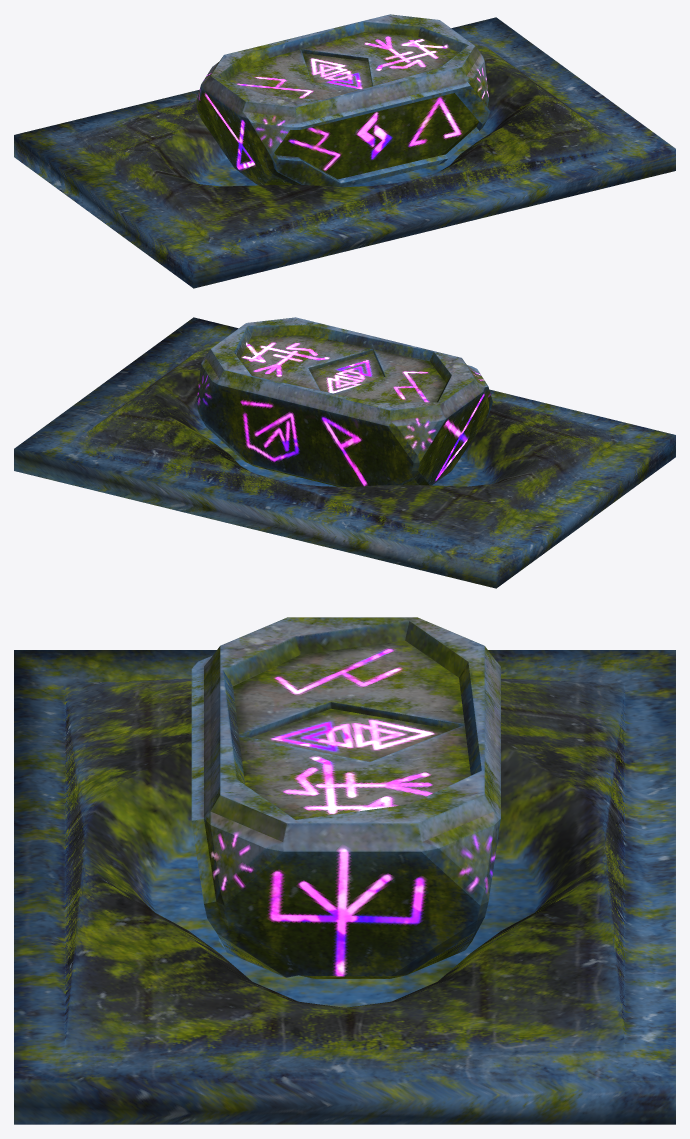
The model's file is pedestal.glb.
The picture shows the model from 3 angles, top to bottom: view 1: azimuth 30°, elevation 25°; view 2: azimuth 150°, elevation 25°; view 3: azimuth 270°, elevation 25°; orthographic projection. The views are drawn at different scales.
Visible parts, largest first — view 1: Pedestal.001; view 2: Pedestal.001; view 3: Pedestal.001.
Boxes of the visible parts, x1=… form: Pedestal.001: x1=14, y1=14, x2=675, y2=288; Pedestal.001: x1=14, y1=317, x2=675, y2=588; Pedestal.001: x1=14, y1=617, x2=675, y2=1124.
Bounding box in the file's own units: 834 × 168 × 538.
Materials: 1 (1 with a texture image).
